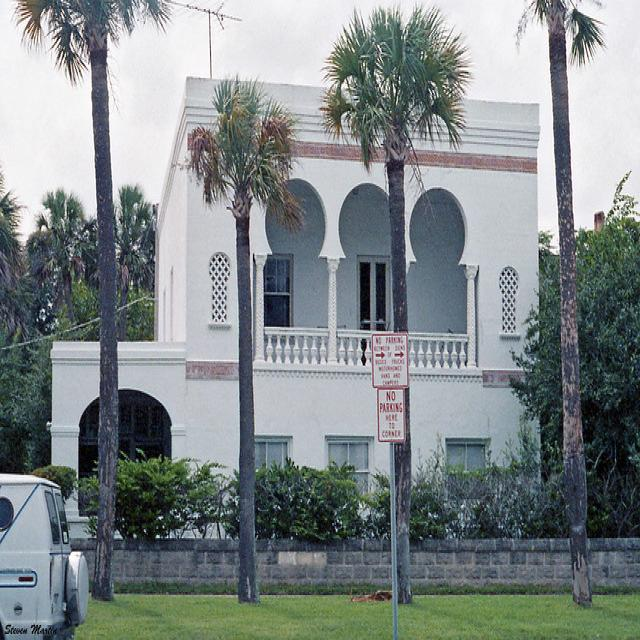Normal_building: (49, 71, 545, 539)
